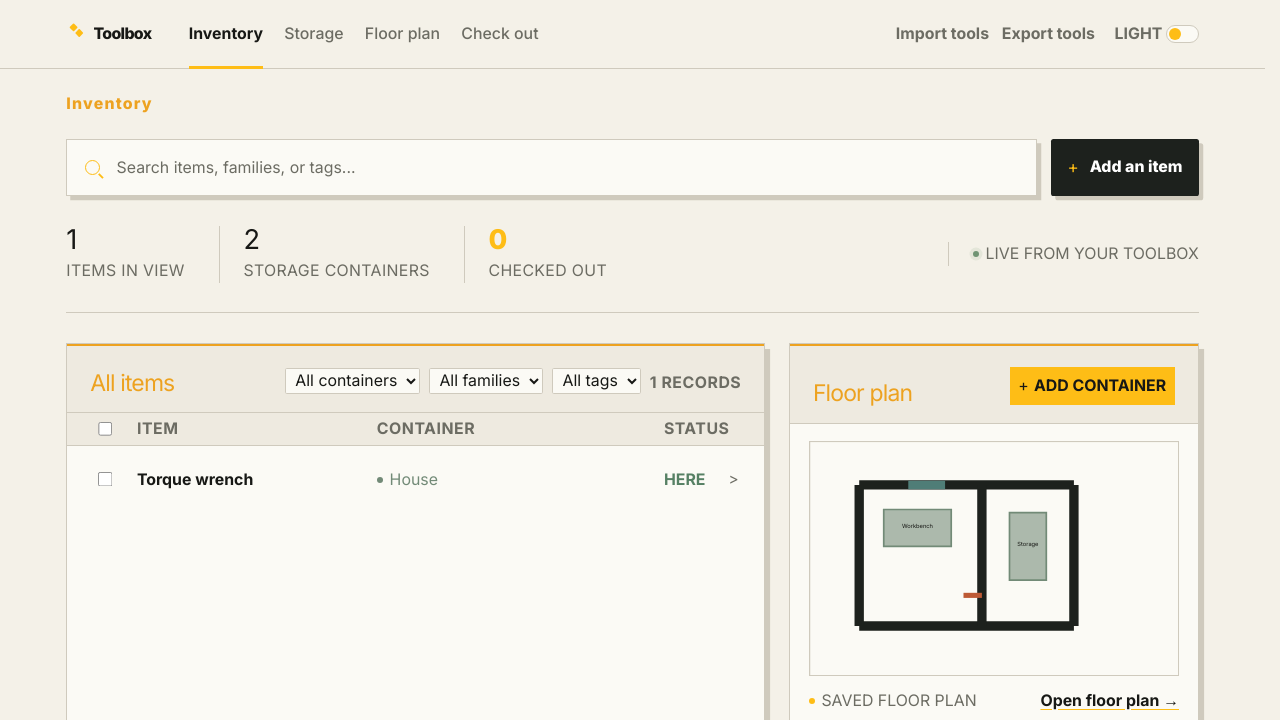
Test: inventory navigation › selects an item and moves it from the bulk action modal
The width and height of the screenshot is (1280, 720).
Click the checkbox named "Select Torque wrench".
click(106, 480)  # box [98,472,113,487]
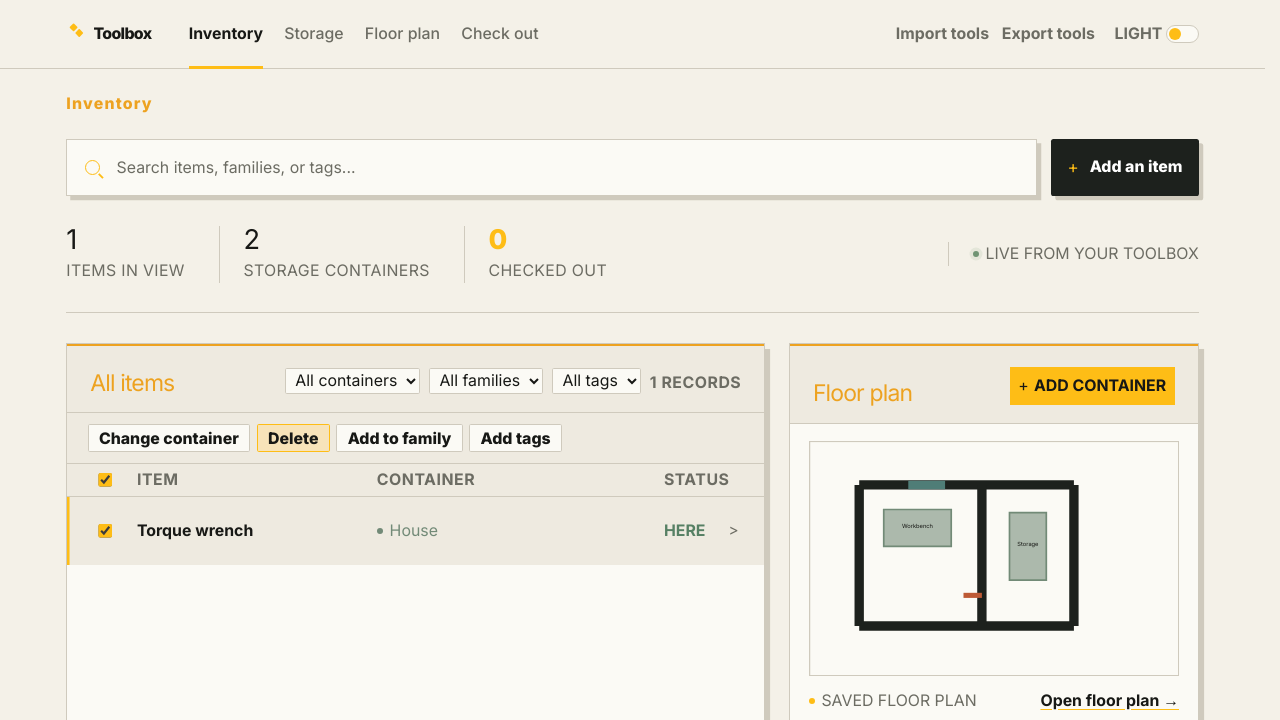
Click the button "Change container".
click(169, 438)  # box [88,424,250,452]
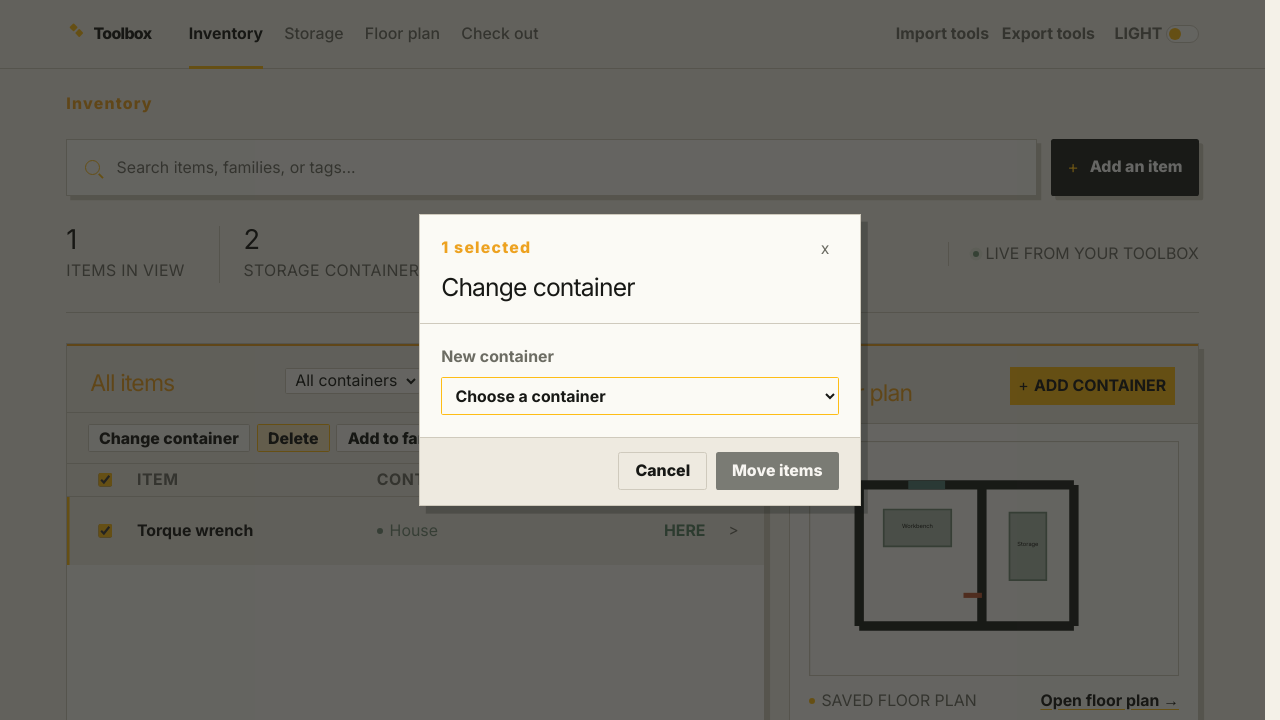
Select "Unorganised" in the dropdown labelled "New container" at (640, 396), box [441,377,839,416]
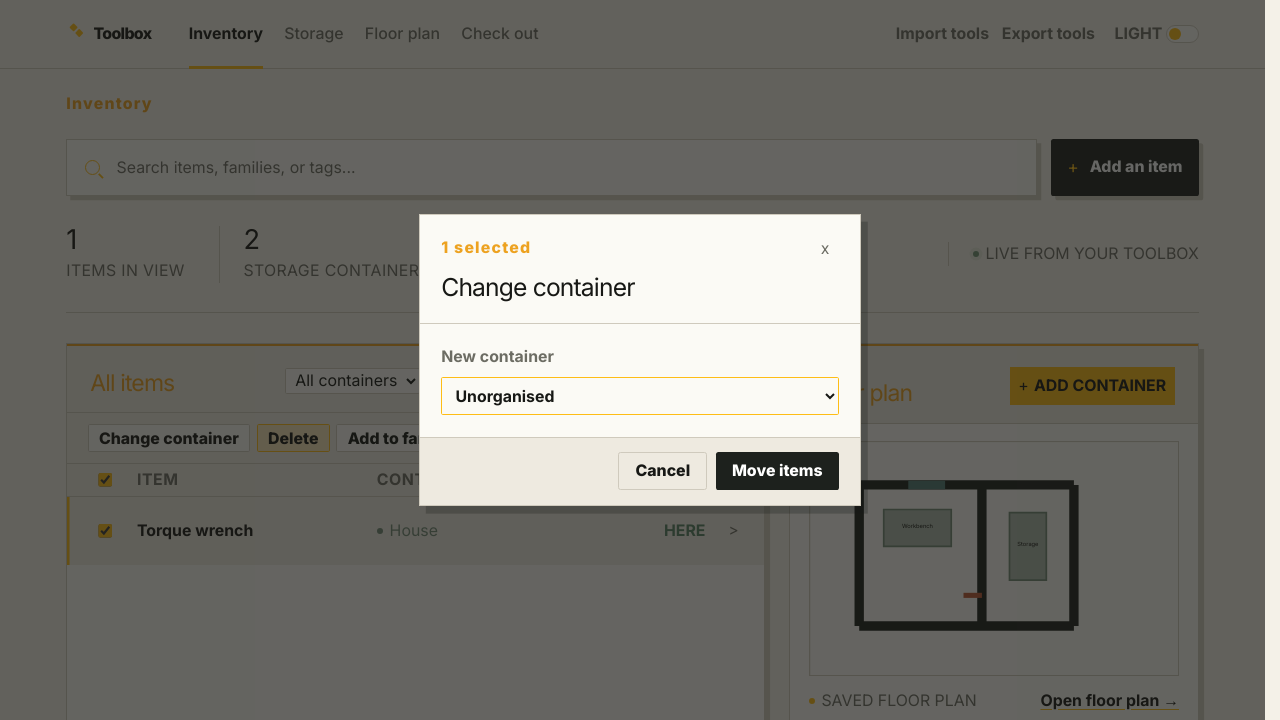
Click the button "Move items".
click(777, 471)  # box [716,452,839,490]
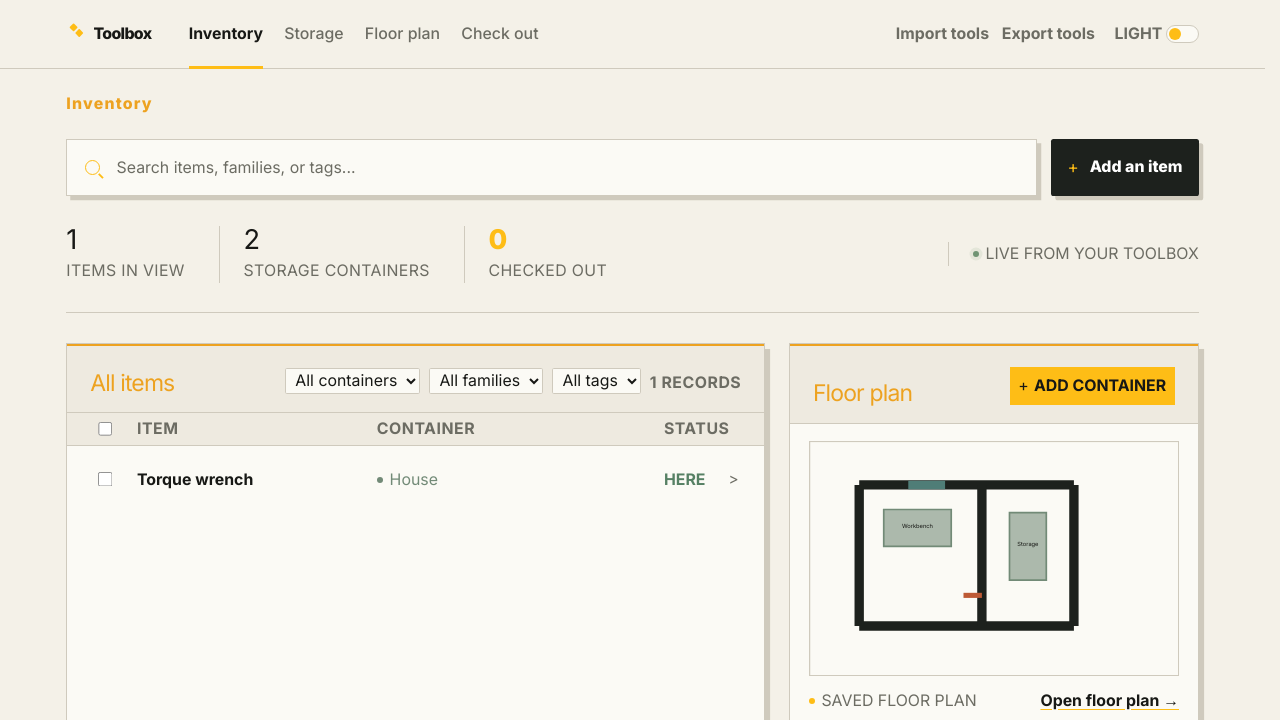
Expected: the button "Torque wrench House Here >" is shown, [137,446,764,513]
Result: the dialog is gone
